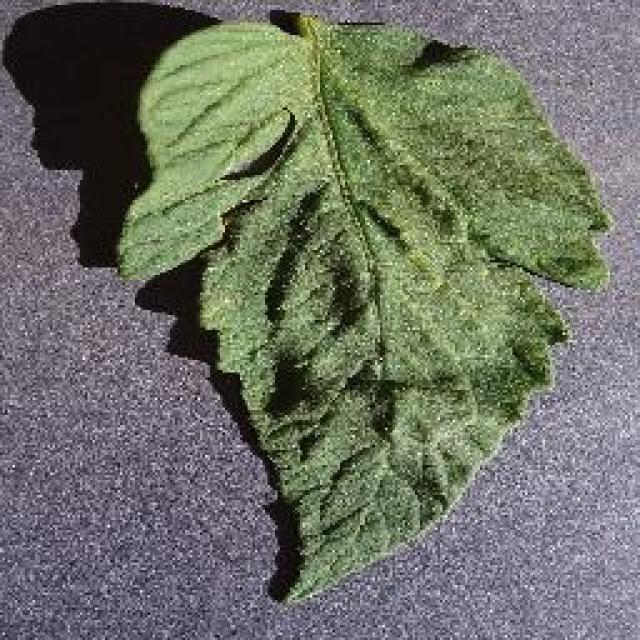Tomato___healthy: (121, 17, 620, 604)
